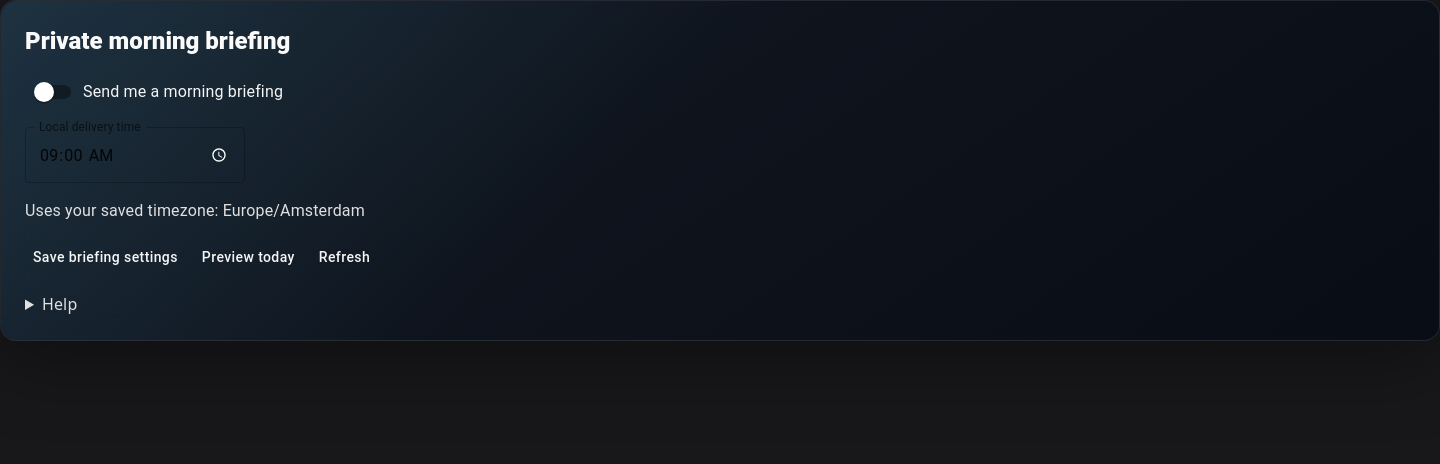
Test: private briefing settings panel › previews exact bounded content and counts without saving or sending
Click the button "Preview today". click: [248, 257]
box: top-left (194, 239), bottom-right (303, 276)
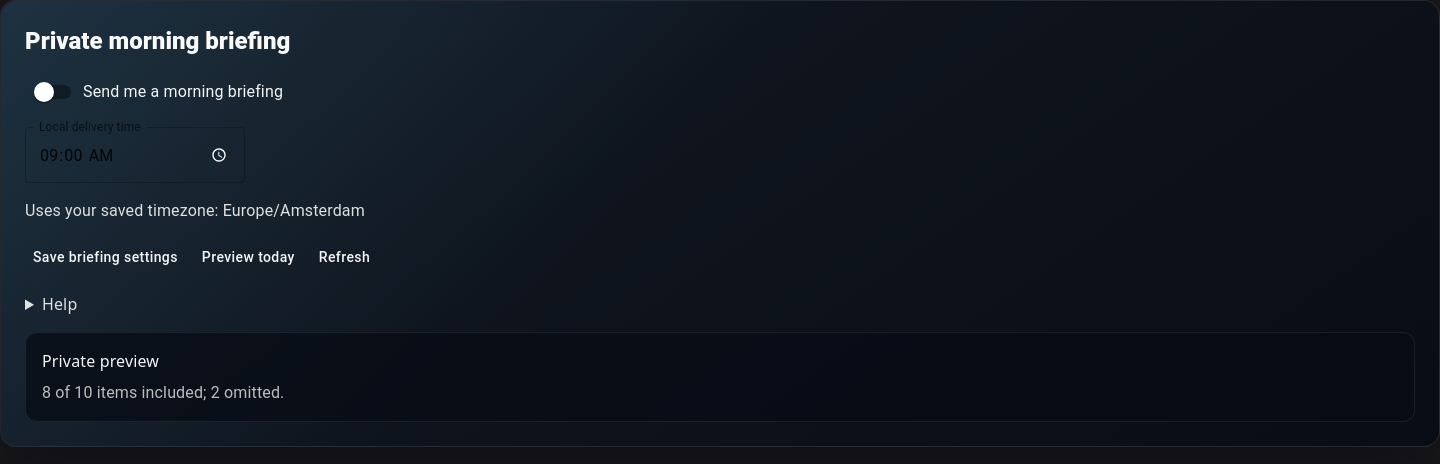
Expected: the text "Private preview" is shown, top-left (42, 350), bottom-right (159, 372)
